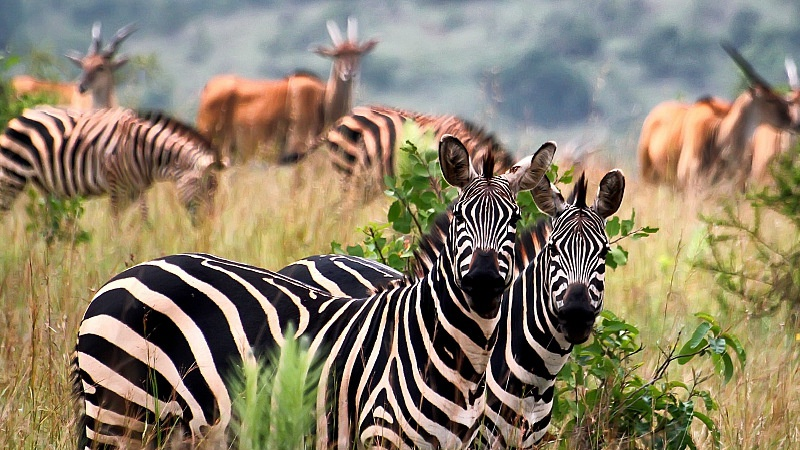zebra: (64, 134, 557, 445), (271, 169, 625, 448), (0, 104, 230, 249)
